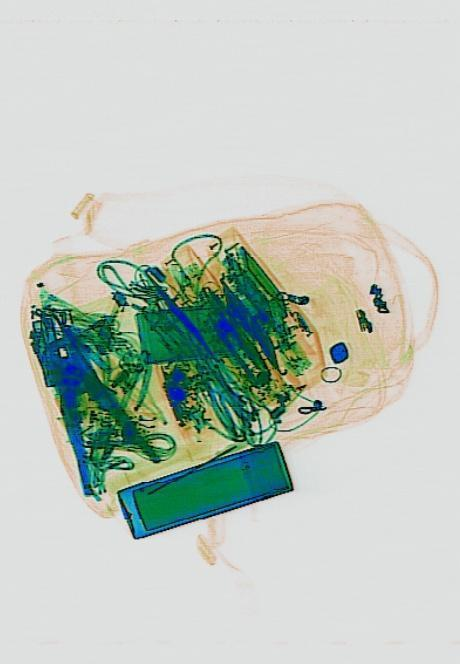Pliers: (22, 309, 160, 512)
